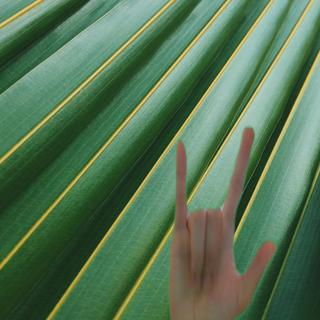ILY: (162, 123, 278, 320)
